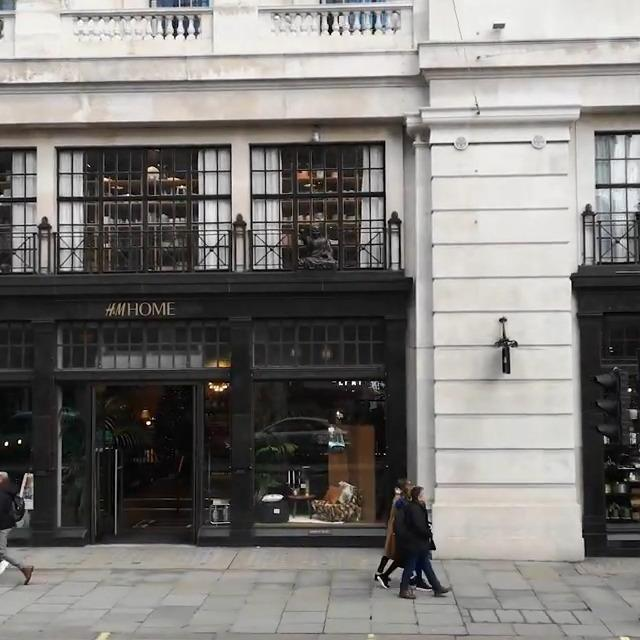NO-Hardhat: (396, 476, 412, 488), (413, 484, 425, 495), (0, 470, 10, 478), (405, 486, 413, 496)
NO-Mask: (419, 492, 426, 503), (0, 479, 2, 486)
NO-Safety Vest: (403, 505, 425, 557), (387, 491, 402, 545), (0, 491, 18, 529), (396, 503, 408, 551)
Person: (400, 486, 452, 601), (378, 487, 432, 592), (374, 475, 417, 588), (0, 470, 34, 586), (0, 470, 10, 577)
